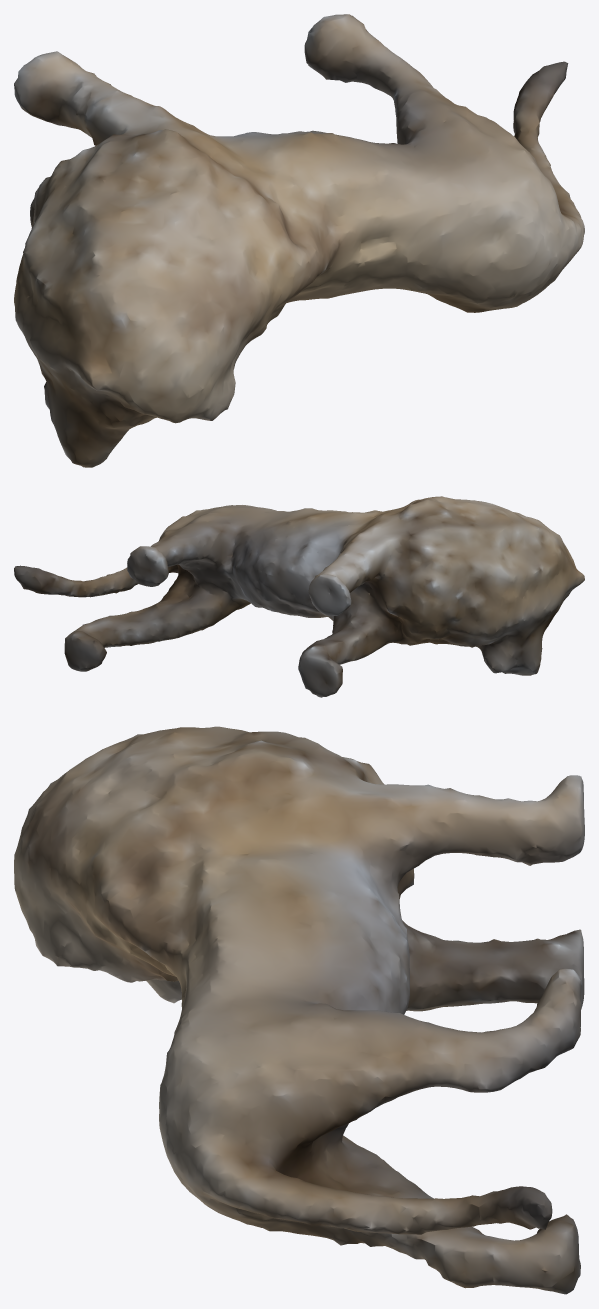
File: lion.glb
The picture shows the model from 3 angles, top to bottom: view 1: azimuth 30°, elevation 25°; view 2: azimuth 150°, elevation 25°; view 3: azimuth 270°, elevation 25°; orthographic projection. The views are drawn at different scales.
Size of the model in its own units: 0.9946 by 0.3706 by 0.6178.
